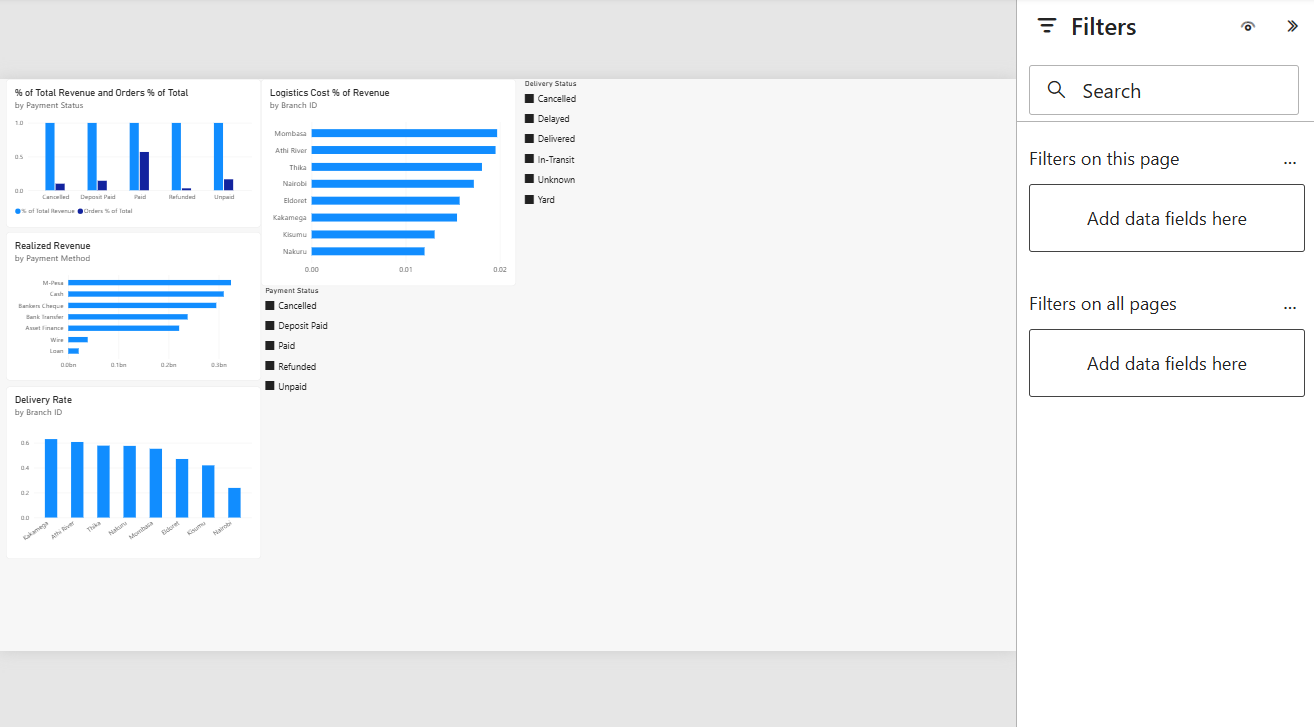

This screenshot's page, from the dashboard's own definition file:
{"tool":"powerbi","page":{"name":"Payment, Delivery, Logistics","canvas":[1920,1080],"ordinal":4},"visuals":[{"type":"clusteredColumnChart","fields":{"Category":["Dim_Payment.Payment Status"],"Y":["Fact_Orders.% of Total Revenue","Fact_Orders.Orders % of Total"]},"box":[11.3,0,481.9,280.6],"z":0},{"type":"clusteredBarChart","fields":{"Category":["Dim_Payment.Payment Method"],"Y":["Fact_Orders.Realized Revenue"]},"box":[11.3,289.1,481.9,280.6],"z":1},{"type":"clusteredColumnChart","fields":{"Category":["Dim_Branch.Branch ID"],"Y":["Fact_Orders.Delivery Rate"]},"box":[11.3,581.1,481.9,326],"z":2},{"type":"clusteredBarChart","fields":{"Category":["Dim_Branch.Branch ID"],"Y":["Fact_Orders.Logistics Cost % of Revenue"]},"box":[493.2,0,481.9,391.2],"z":3},{"type":"slicer","fields":{"Values":["Dim_Payment.Payment Status"]},"box":[493.2,391.2,481.9,374.2],"z":4},{"type":"slicer","fields":{"Values":["Dim_Delivery Status.Delivery Status"]},"box":[985,0,482,391],"z":5}]}

Visuals, with their boxes on the page's 1920x1080 design canvas (x1, y1, x2, y2). These are canvas units, not pixel positions in the 1314x727 screenshot, which may show the page scaled, cropped or inside an application window:
clusteredColumnChart - Dim_Payment.Payment Status x Fact_Orders.% of Total Revenue: (left=11, top=0, right=493, bottom=281)
clusteredBarChart - Dim_Payment.Payment Method x Fact_Orders.Realized Revenue: (left=11, top=289, right=493, bottom=570)
clusteredColumnChart - Dim_Branch.Branch ID x Fact_Orders.Delivery Rate: (left=11, top=581, right=493, bottom=907)
clusteredBarChart - Dim_Branch.Branch ID x Fact_Orders.Logistics Cost % of Revenue: (left=493, top=0, right=975, bottom=391)
slicer - Dim_Payment.Payment Status: (left=493, top=391, right=975, bottom=765)
slicer - Dim_Delivery Status.Delivery Status: (left=985, top=0, right=1467, bottom=391)
